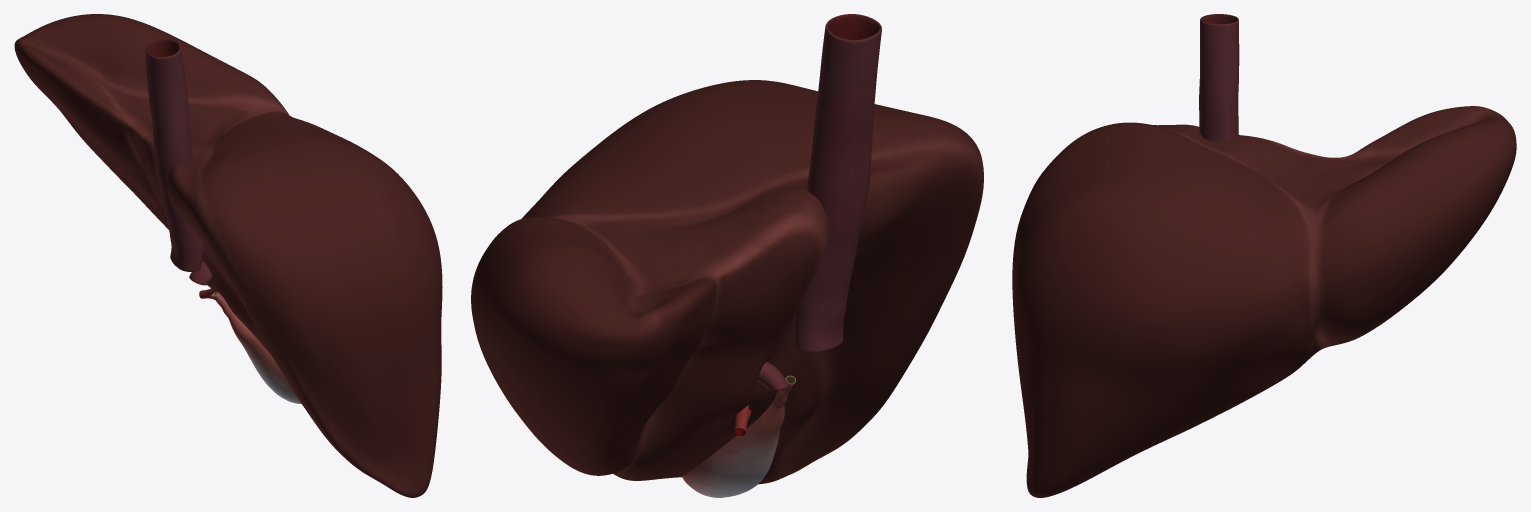
3 renders of one model, left to right at view 1: azimuth 30°, elevation 25°; view 2: azimuth 150°, elevation 25°; view 3: azimuth 270°, elevation 25°, orthographic. The views are drawn at different scales.
Visible parts, largest first — view 1: liver.001, inferior vena cava.001, gallbladder.002; view 2: liver.001, inferior vena cava.001, gallbladder.002, portal vein.001; view 3: liver.001, inferior vena cava.001.
Boxes of the visible parts, x1,y1,x2,y2 form: liver.001: (14, 14, 442, 497); inferior vena cava.001: (144, 39, 203, 271); gallbladder.002: (211, 291, 301, 403); liver.001: (471, 80, 983, 484); inferior vena cava.001: (793, 14, 881, 352); gallbladder.002: (682, 375, 795, 497); portal vein.001: (757, 362, 788, 390); liver.001: (1012, 106, 1516, 497); inferior vena cava.001: (1199, 14, 1239, 141).
Size of the model in its own units: 0.1362 by 0.2222 by 0.2515.
Materials: 5 (5 with a texture image).
